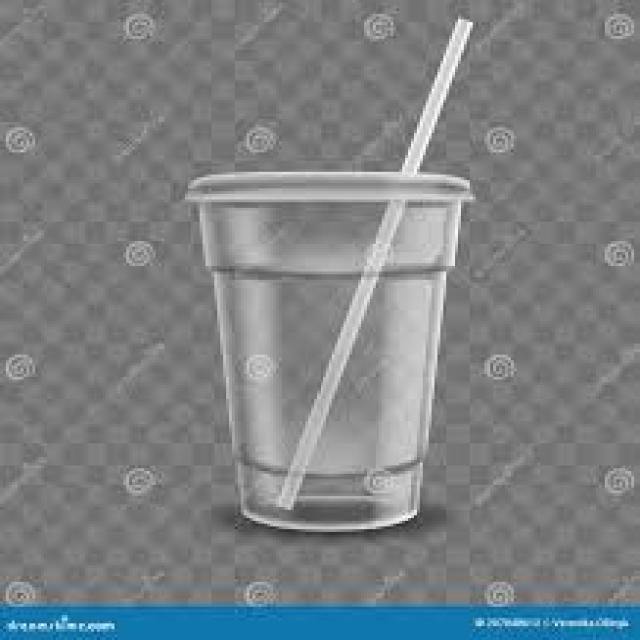bottle: (187, 171, 469, 532)
